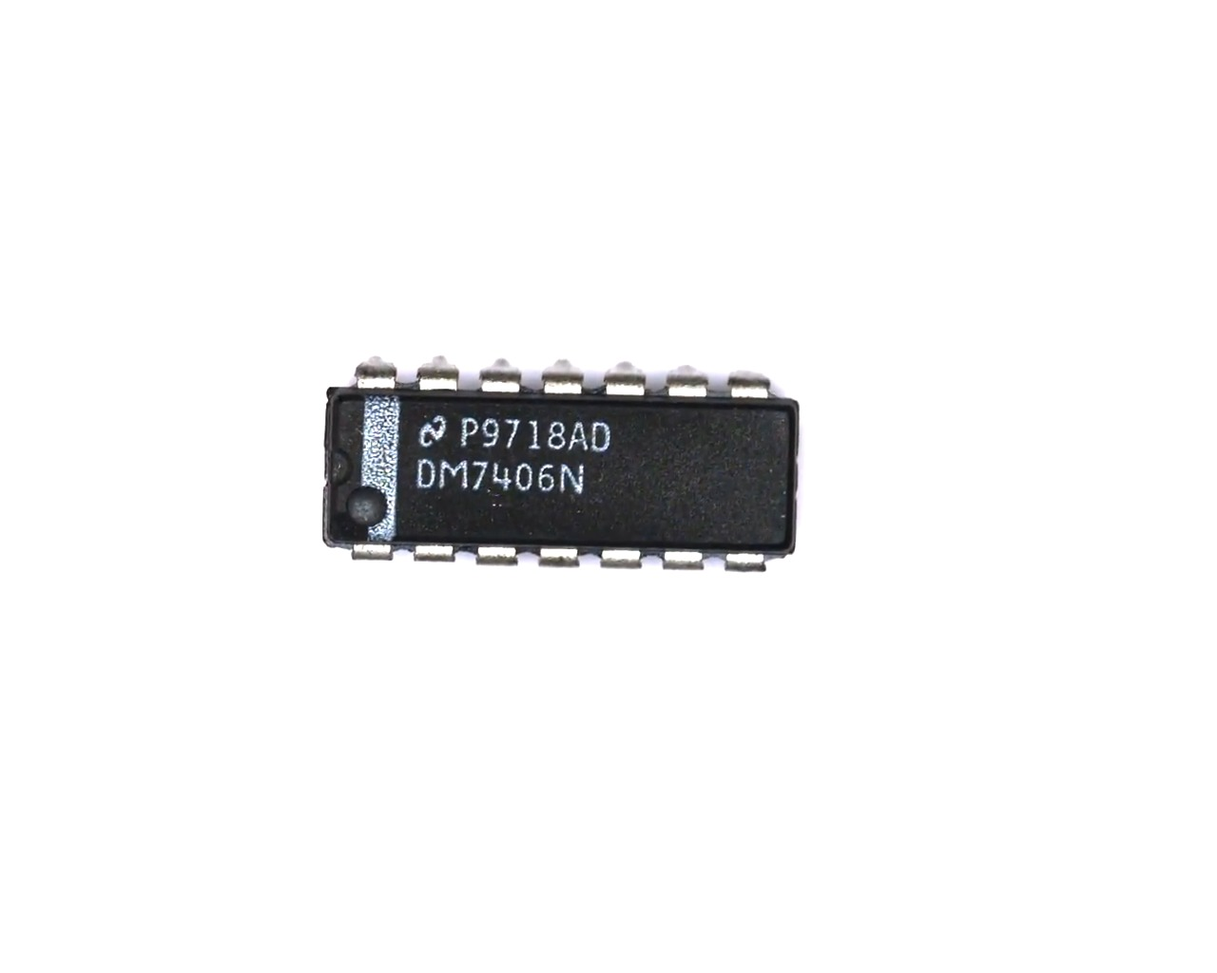IC: (304, 353, 819, 584)
notch: (321, 445, 359, 490)
